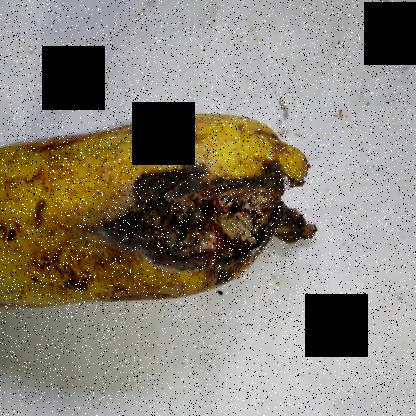ripe: (0, 123, 114, 345)
rotten: (80, 142, 311, 296)
